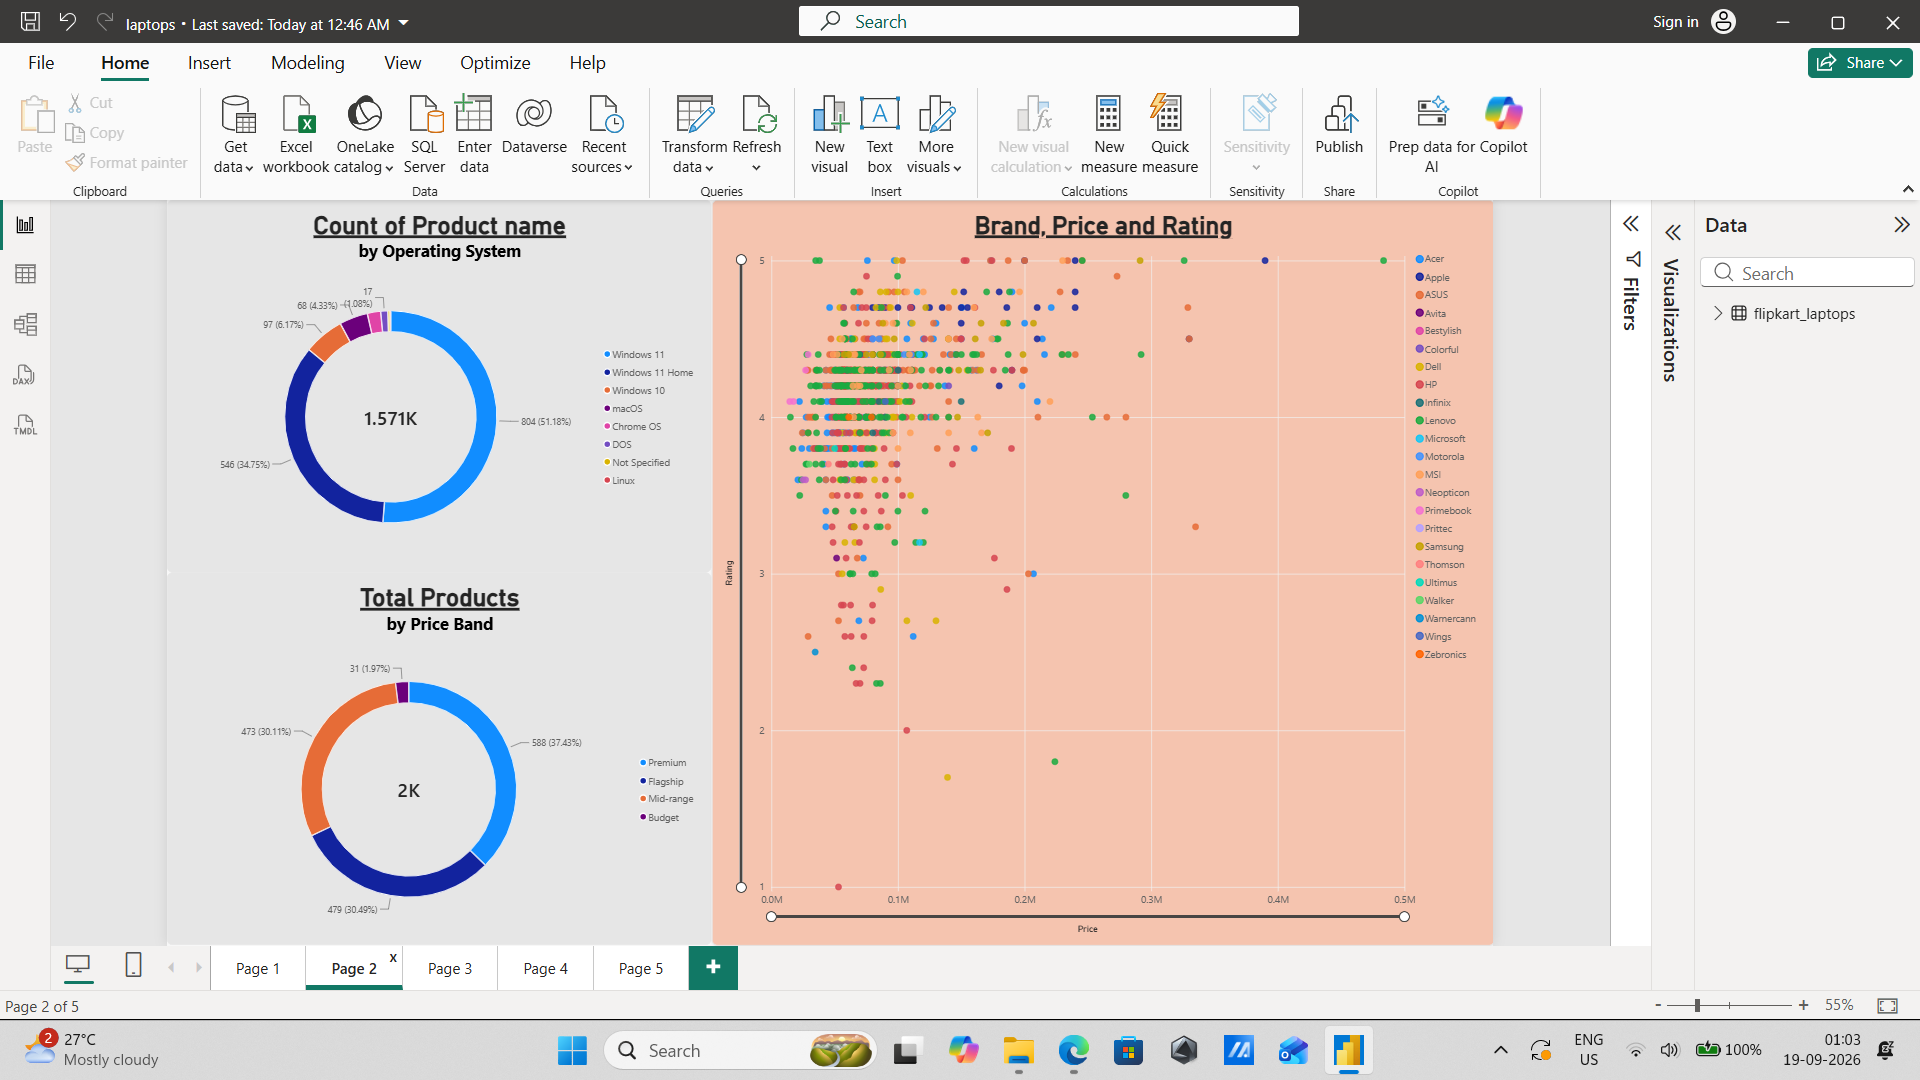

Layout of this report page (visuals, bound fields, positions):
{"tool":"powerbi","page":{"name":"Page 2","canvas":[1920,1080],"ordinal":1},"visuals":[{"type":"donutChart","fields":{"Category":["flipkart_laptops.Operating System"],"Y":["CountNonNull(flipkart_laptops.Product name)"]},"box":[0,0,788.4,539.5],"z":0},{"type":"donutChart","fields":{"Category":["flipkart_laptops.Price Band"],"Y":["flipkart_laptops.Total Products"]},"box":[0,539.5,788.4,539.5],"z":1},{"type":"scatterChart","fields":{"Series":["flipkart_laptops.Brand"],"X":["flipkart_laptops.Price"],"Y":["flipkart_laptops.Rating"]},"box":[788.4,0,1132.6,1079.1],"z":2}]}

Visuals, with their boxes on the page's 1920x1080 design canvas (x1, y1, x2, y2). These are canvas units, not pixel positions in the 1920x1080 screenshot, which may show the page scaled, cropped or inside an application window:
donutChart - flipkart_laptops.Operating System x CountNonNull(flipkart_laptops.Product name): region(0, 0, 788, 540)
donutChart - flipkart_laptops.Price Band x flipkart_laptops.Total Products: region(0, 540, 788, 1079)
scatterChart - flipkart_laptops.Brand x flipkart_laptops.Price: region(788, 0, 1921, 1079)
